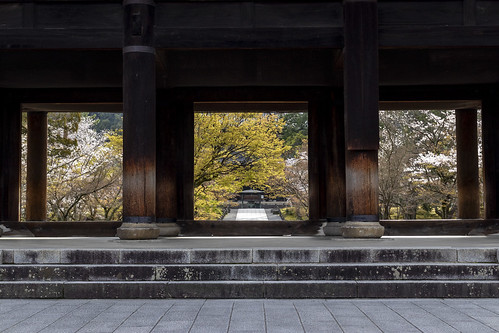collumn: (106, 1, 164, 246), (337, 1, 388, 241)
tree: (193, 112, 290, 223), (45, 105, 122, 219), (383, 105, 452, 217)
